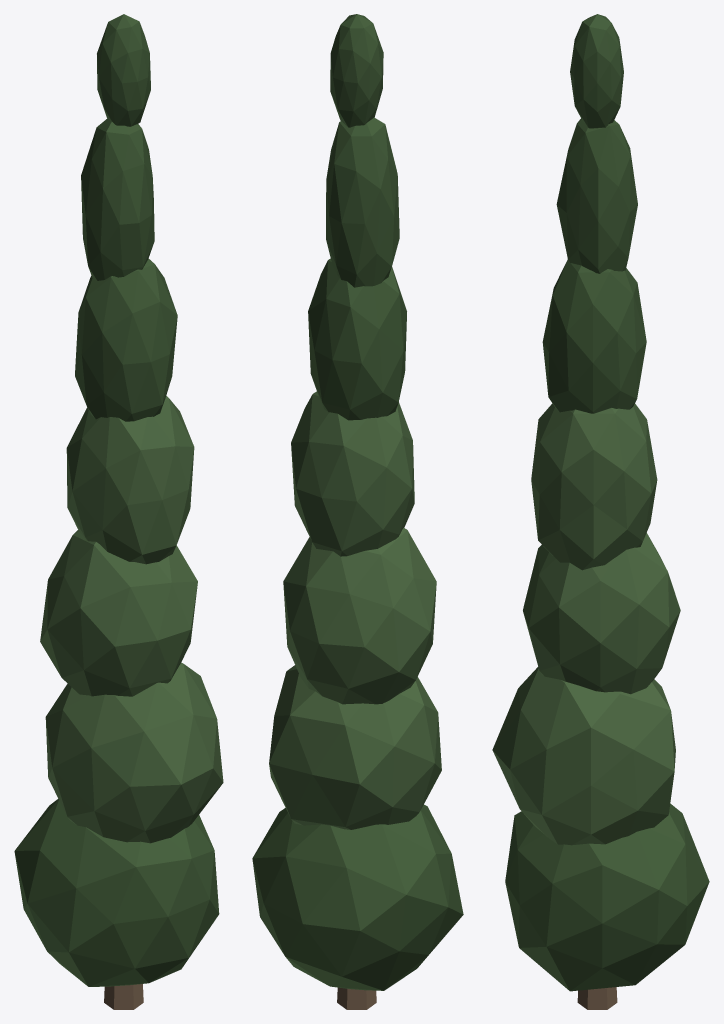
Rendered from servi.glb.
3 renders of one model, left to right at view 1: azimuth 30°, elevation 25°; view 2: azimuth 150°, elevation 25°; view 3: azimuth 270°, elevation 25°, orthographic.
Visible parts, largest first — view 1: servi2, servi, govde; view 2: servi2, servi, govde; view 3: servi2, servi, govde.
Boxes of the visible parts, x1,y1,x2,y2 form: servi2: [40, 396, 223, 843]; servi: [14, 14, 219, 986]; govde: [104, 984, 143, 1009]; servi2: [269, 391, 441, 829]; servi: [252, 14, 463, 990]; govde: [337, 987, 376, 1009]; servi2: [492, 403, 680, 845]; servi: [505, 14, 709, 991]; govde: [577, 987, 617, 1009].
Bounding box in the file's own units: 1.86 × 9.88 × 1.97.
